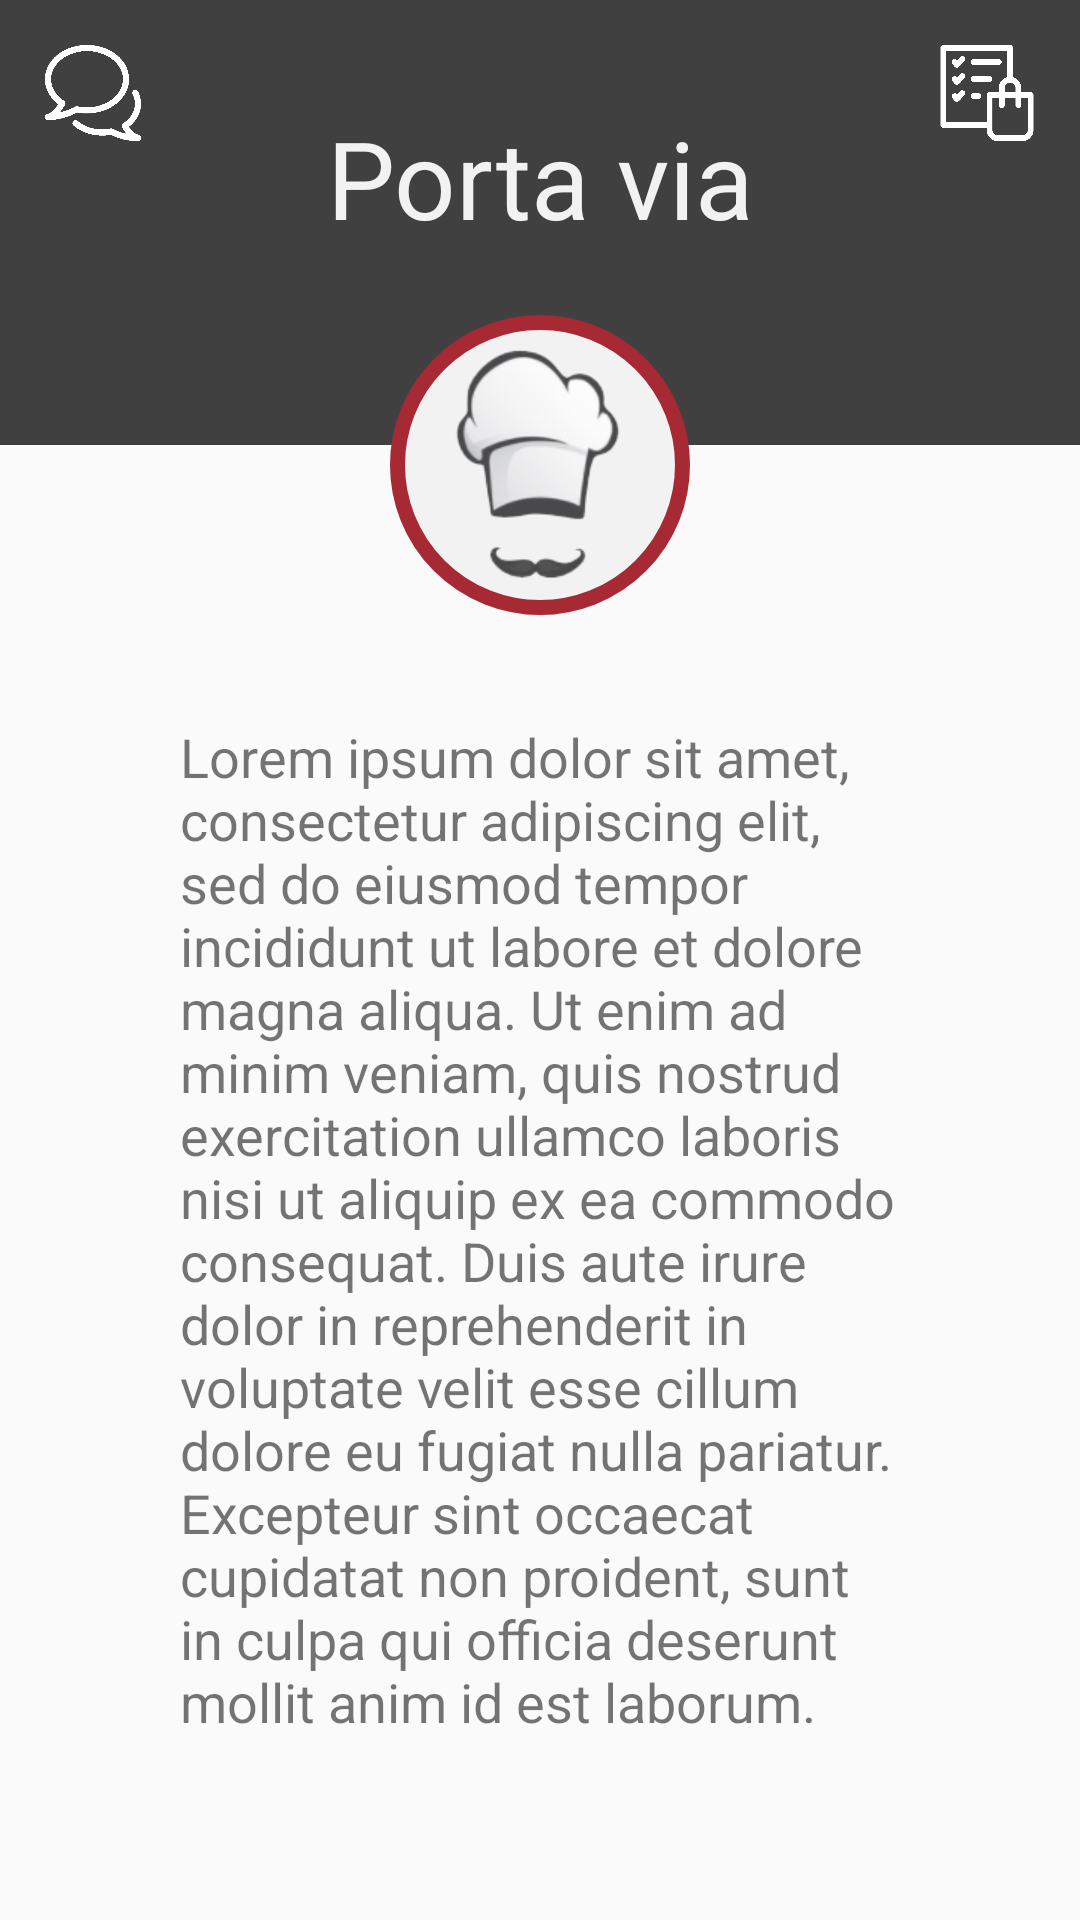

Screen size 1080 × 1920. Icon name, then its center in pixels as (x,y):
chat: (93,93)
check list: (987,93)
cheff: (540,465)
